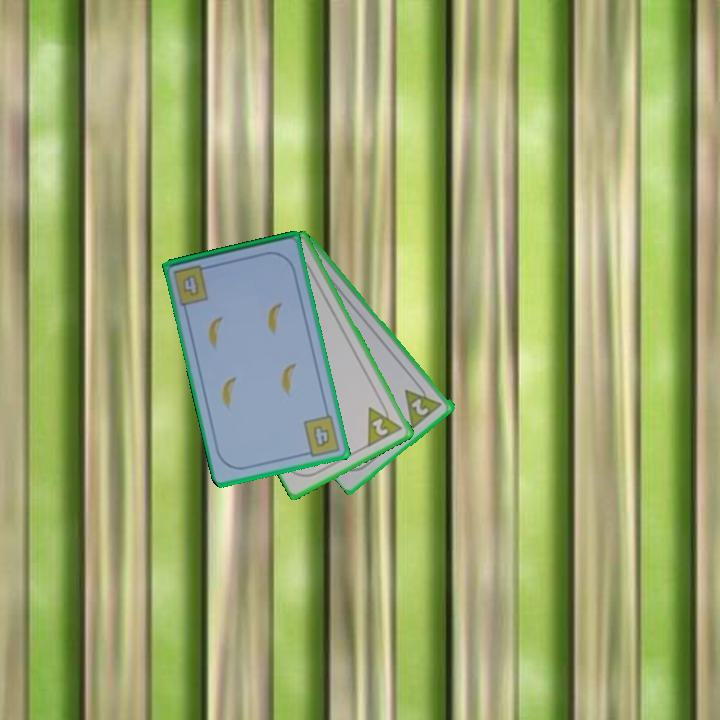2p: (364, 398, 405, 450), (408, 395, 432, 419)
4b: (300, 412, 343, 459), (179, 271, 202, 299)
